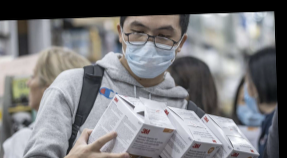with_mask: (121, 18, 181, 80), (235, 92, 264, 128), (242, 72, 262, 116)
without_mask: (23, 69, 44, 113)
